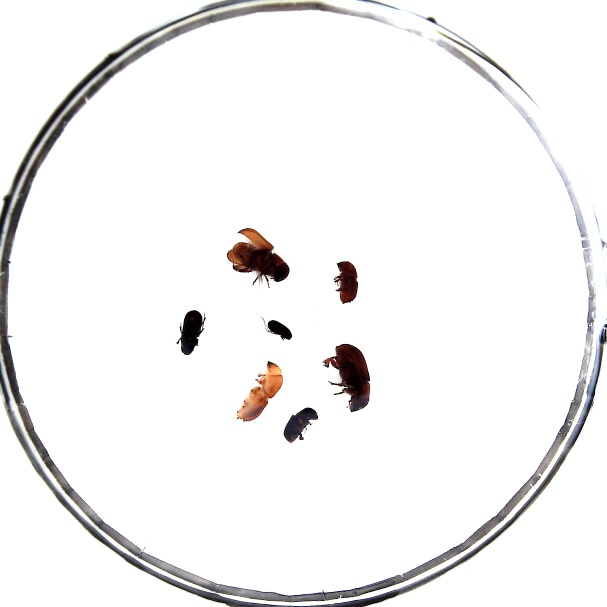armandi: (283, 407, 317, 443), (180, 310, 203, 355)
boerner: (236, 361, 282, 422)
coleoptera: (267, 319, 292, 340)
leconte: (226, 228, 289, 282), (335, 343, 369, 412)
linnaeus: (336, 260, 358, 303)
